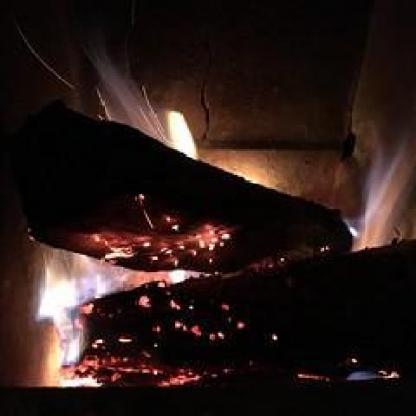fire: (36, 102, 412, 390)
